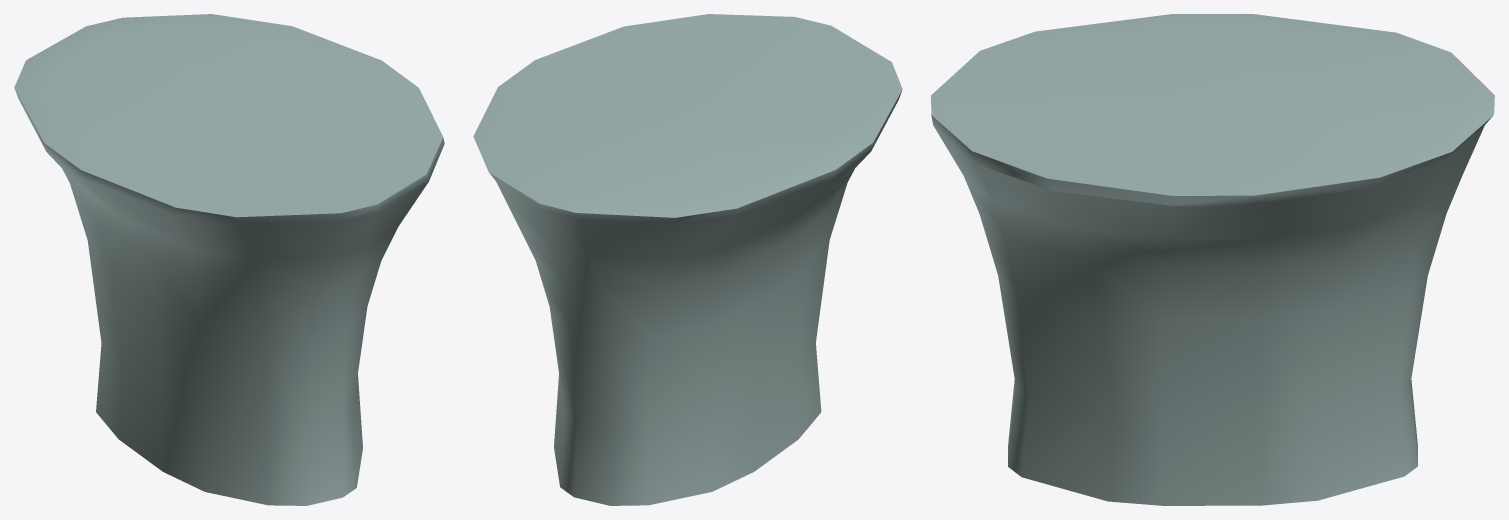
File: SM_Stone_4_Placeholder_V2.fbx
The picture shows the model from 3 angles, left to right: view 1: azimuth 30°, elevation 25°; view 2: azimuth 150°, elevation 25°; view 3: azimuth 270°, elevation 25°; orthographic projection. The views are drawn at different scales.
Parts seen in each view (by area): view 1: SM_Stone_4_Placeholder_V2; view 2: SM_Stone_4_Placeholder_V2; view 3: SM_Stone_4_Placeholder_V2.
Part boxes in pixels (box(x1,y1,x2,y2)): SM_Stone_4_Placeholder_V2: box(14, 14, 444, 505); SM_Stone_4_Placeholder_V2: box(473, 14, 902, 505); SM_Stone_4_Placeholder_V2: box(931, 14, 1494, 505).
Bounding box in the file's own units: 4635 × 4320 × 6071.
